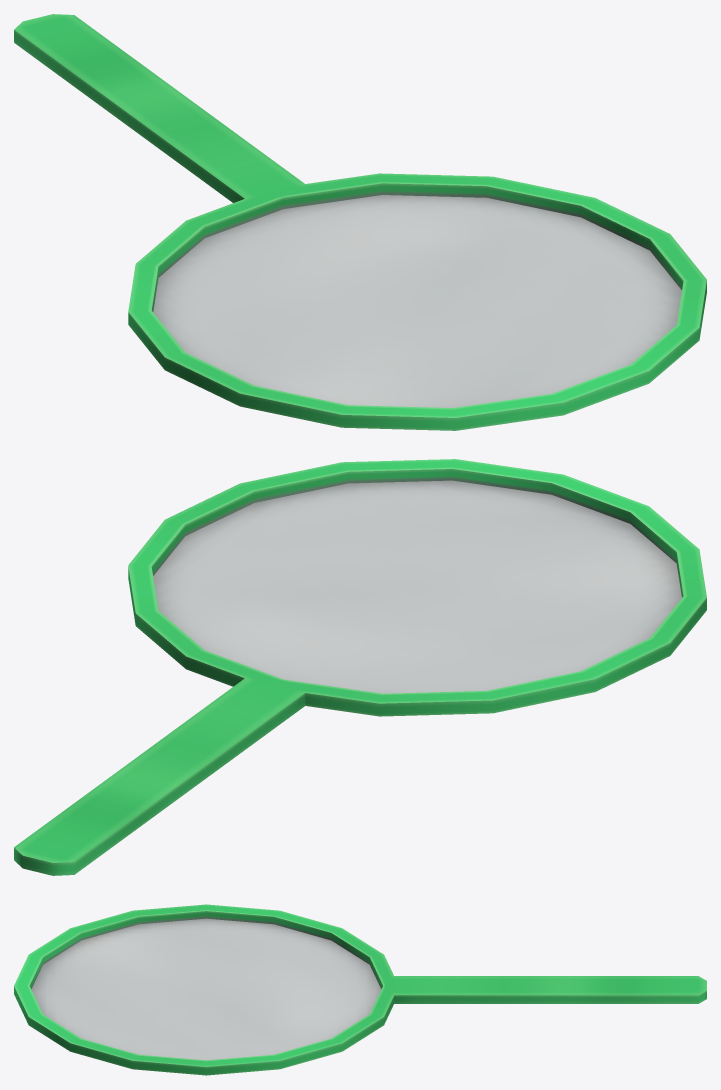
Rendered from jsf_Poi_01.fbx.
3 renders of one model, top to bottom at view 1: azimuth 30°, elevation 25°; view 2: azimuth 150°, elevation 25°; view 3: azimuth 270°, elevation 25°, orthographic. The views are drawn at different scales.
Visible parts, largest first — view 1: jsf_Poi_01; view 2: jsf_Poi_01; view 3: jsf_Poi_01.
Part boxes in pixels (x1=…): jsf_Poi_01: x1=14, y1=14, x2=706, y2=430; jsf_Poi_01: x1=14, y1=459, x2=706, y2=875; jsf_Poi_01: x1=14, y1=904, x2=706, y2=1075.
Size of the model in its own units: 8.21 by 0.2 by 14.79.
